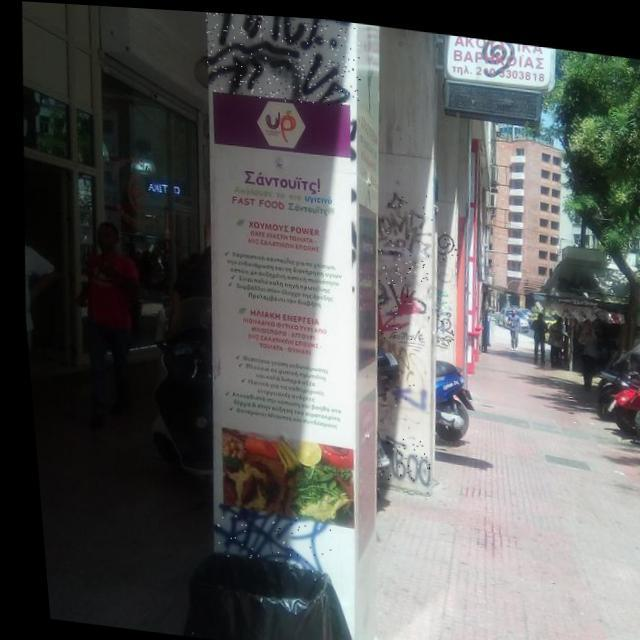-: (199, 10, 365, 106), (204, 503, 326, 569), (374, 182, 432, 252), (370, 428, 425, 479), (370, 287, 421, 338), (372, 243, 428, 284), (382, 372, 424, 409), (427, 302, 452, 342), (433, 226, 455, 256)
